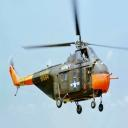helicopter: (2, 2, 119, 117)
